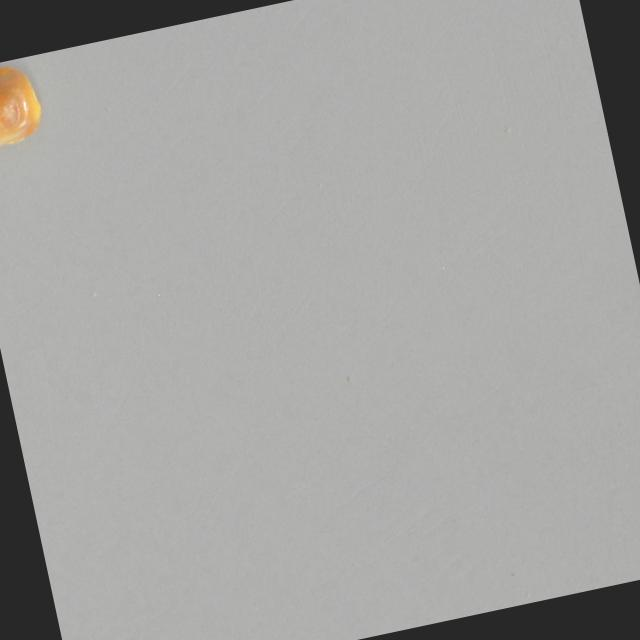dañado: (0, 55, 48, 152)
